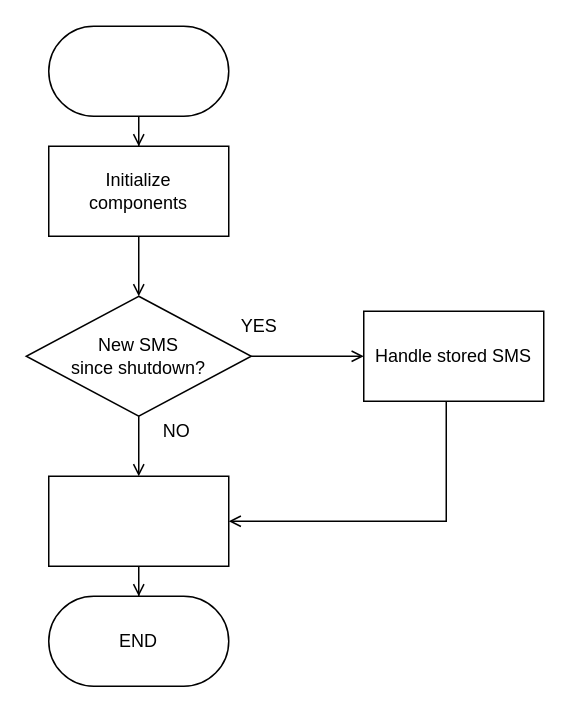
Image size: 570x713. Some labels were removed from this diagram. The shapes that lost their labels are listed below. From the top down, each one's box as (x1, y1, x2, y2) in pixels, then its label:
(47, 25, 229, 116): START
(47, 475, 229, 566): Listen for new SMS
